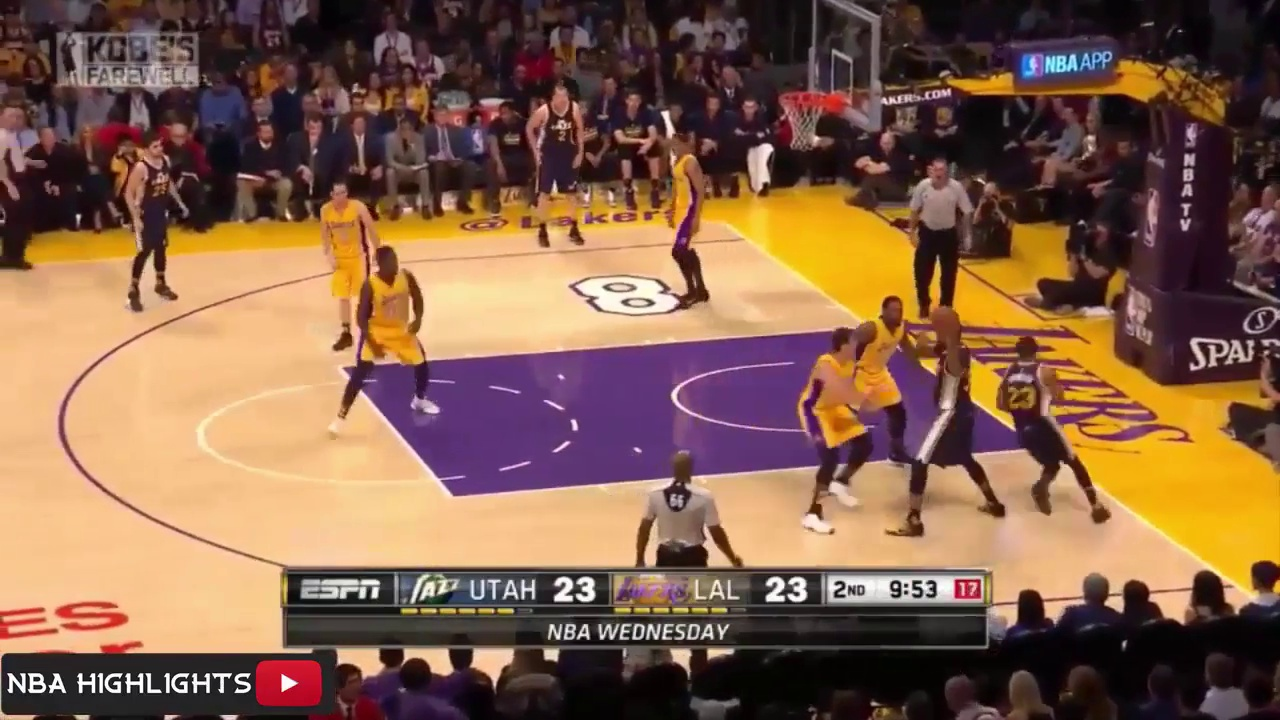jazz: (897, 312, 987, 540), (1003, 334, 1109, 526), (125, 130, 197, 309), (517, 90, 587, 254)
lakers: (315, 243, 443, 439), (807, 330, 865, 532), (857, 292, 915, 476), (319, 184, 380, 346), (667, 137, 716, 309)
